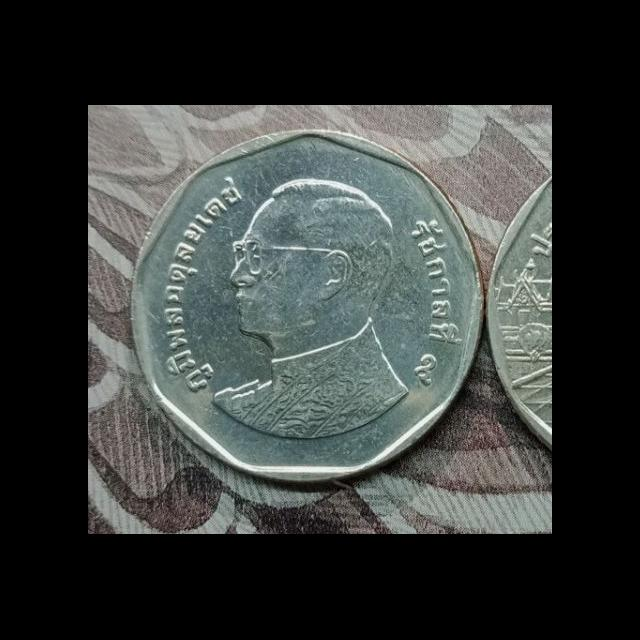5-baht: (117, 116, 499, 505)
